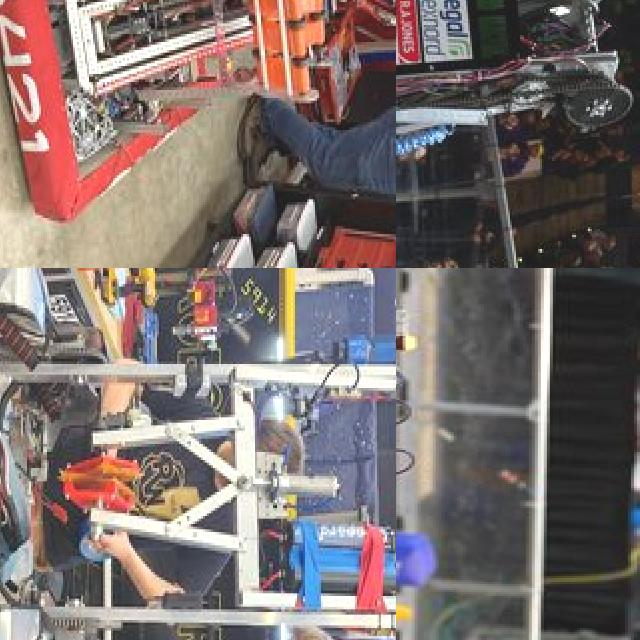FRC-Robots: (0, 268, 396, 640), (10, 0, 396, 235), (396, 0, 640, 268), (396, 268, 483, 640)
